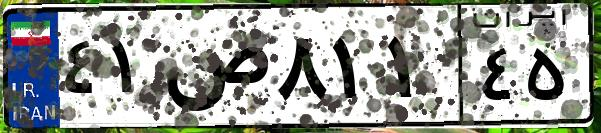1: (385, 28, 445, 110), (330, 28, 385, 110), (110, 28, 158, 98)
4: (57, 26, 110, 100), (475, 38, 525, 113)
5: (525, 38, 570, 115)
8: (270, 28, 330, 110)
ص: (158, 20, 270, 120)
